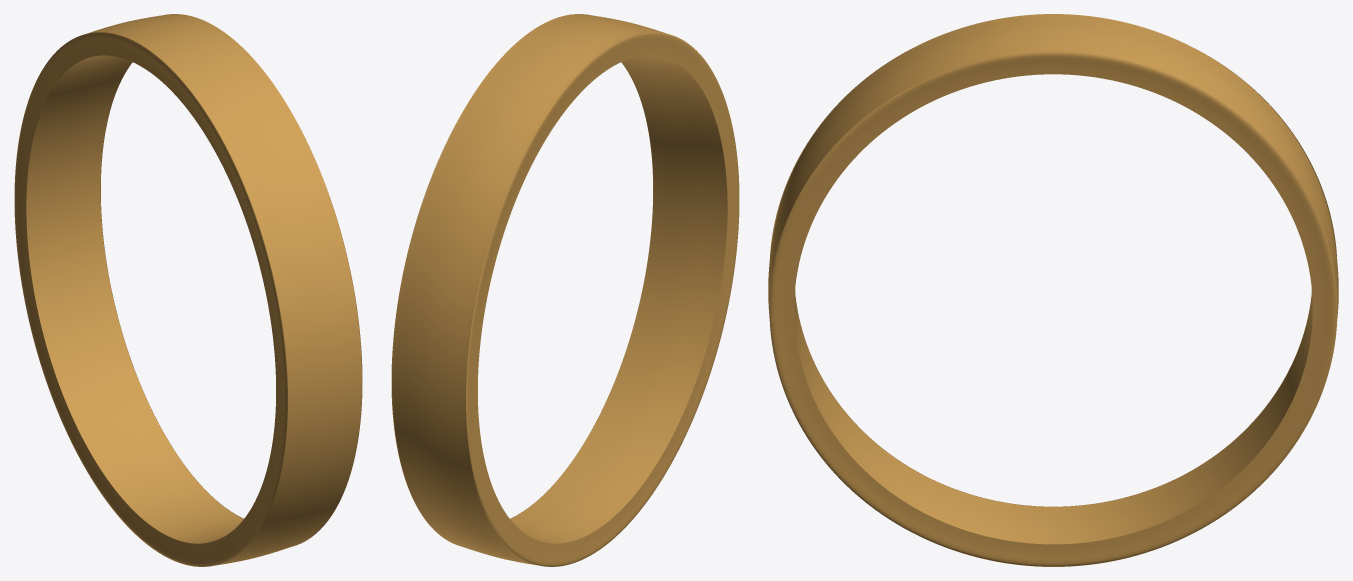
3 views of the same model, side by side, from view 1: azimuth 30°, elevation 25°; view 2: azimuth 150°, elevation 25°; view 3: azimuth 270°, elevation 25° (orthographic). The views are drawn at different scales.
Visible parts, largest first — view 1: P14-Outer, P14-Inner, P14-Sides; view 2: P14-Outer, P14-Inner, P14-Sides; view 3: P14-Sides, P14-Outer, P14-Inner.
Boxes of the visible parts, x1,y1,x2,y2 form: P14-Outer: (87,14,361,566); P14-Inner: (26,46,243,543); P14-Sides: (14,32,362,566); P14-Outer: (392,14,666,566); P14-Inner: (510,46,727,543); P14-Sides: (391,32,739,566); P14-Sides: (769,52,1337,566); P14-Outer: (768,14,1338,566); P14-Inner: (794,51,1312,544).
Bounding box in the file's own units: 0.00368 × 0.0231 × 0.023.
